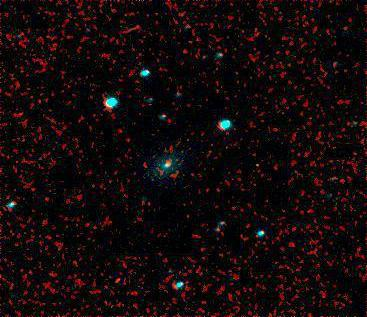star: (103, 265, 133, 295)
